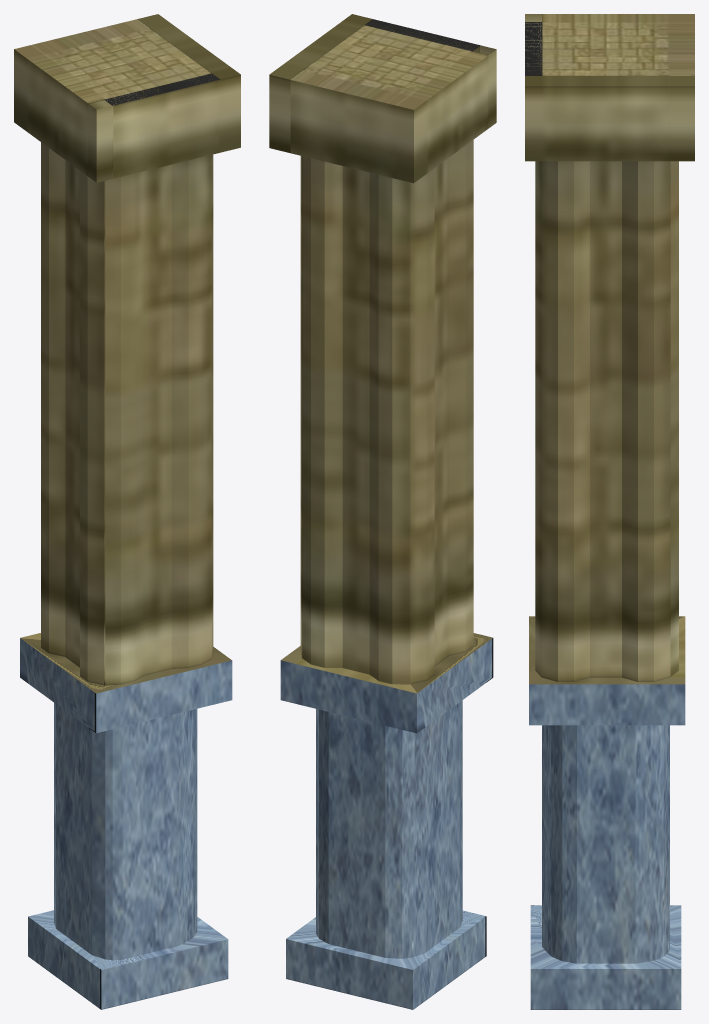
Rendered from outland_column.fbx.
The picture shows the model from 3 angles, left to right: view 1: azimuth 30°, elevation 25°; view 2: azimuth 150°, elevation 25°; view 3: azimuth 270°, elevation 25°; orthographic projection. The views are drawn at different scales.
Parts seen in each view (by area): view 1: Cube; view 2: Cube; view 3: Cube.
Part boxes in pixels (x1,y1,x2,y2): Cube: (14,14,240,1009); Cube: (269,14,496,1009); Cube: (525,14,694,1009).
Bounding box in the file's own units: 134 × 800 × 133.
2 materials, 2 textured.
